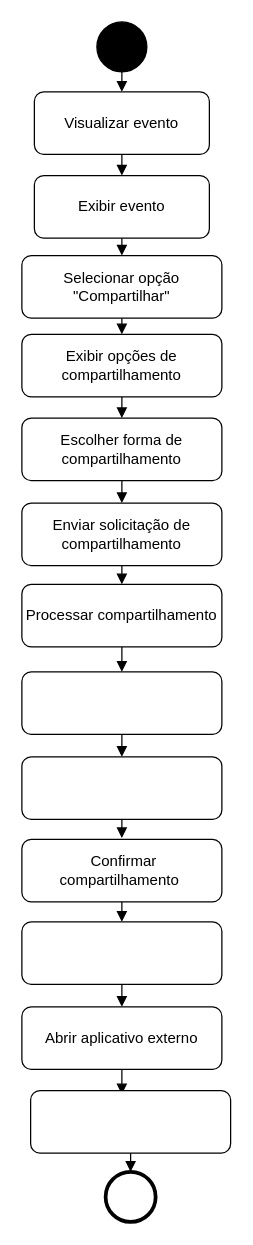
Some shapes in this 253 by 1245 pixel diagram are drawn without their labels. The centre of each missing label's shape, as x and y in pixels:
"Exibir evento compartilhado" belongs at point (130, 1121).
"Gerar link do evento" belongs at point (121, 952).
"Registrar compartilhamento no sistema" belongs at point (121, 702).
"Salvar compartilhamento no banco" belongs at point (121, 787).
